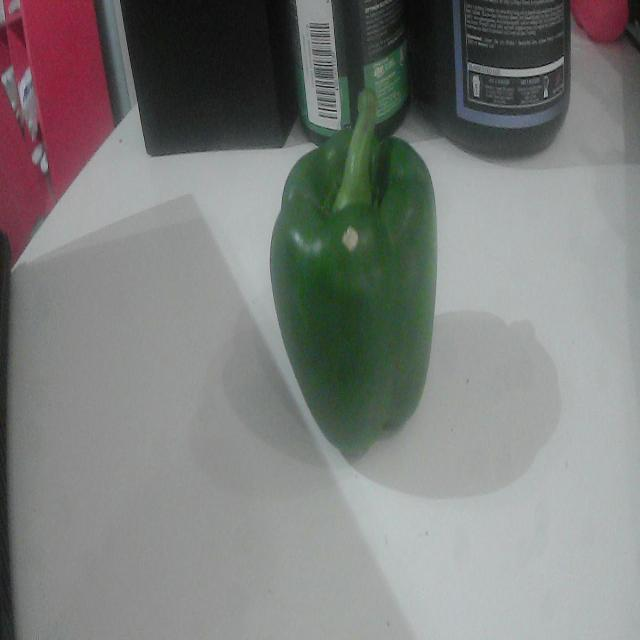Bell Pepper: (271, 97, 437, 458)
